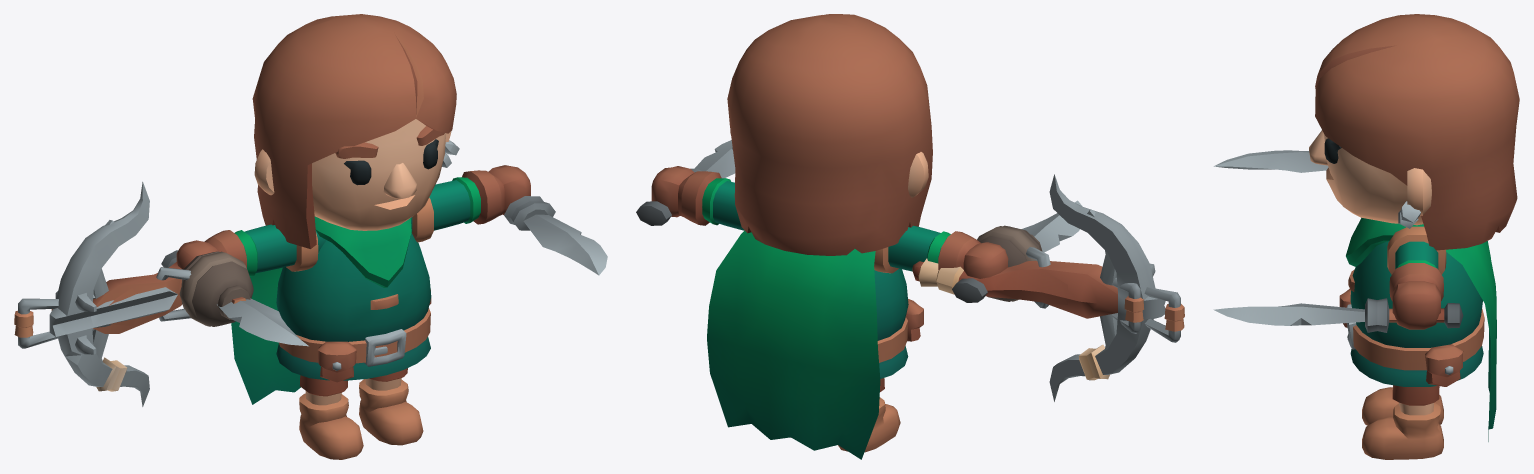
Rendered from rogue.glb.
3 views of the same model, side by side, from view 1: azimuth 30°, elevation 25°; view 2: azimuth 150°, elevation 25°; view 3: azimuth 270°, elevation 25° (orthographic).
Parts seen in each view (by area): view 1: Rogue_Head, Rogue_Body, 2H_Crossbow, Rogue_ArmLeft, Rogue_ArmRight, Rogue_LegRight, Rogue_Cape, Throwable, 1H_Crossbow, Rogue_LegLeft, Knife_Offhand, Knife; view 2: Rogue_Head, Rogue_Cape, 2H_Crossbow, 1H_Crossbow, Rogue_ArmRight, Rogue_ArmLeft, Rogue_Body, Knife, Knife_Offhand, Throwable, Rogue_LegRight; view 3: Rogue_Head, Rogue_Body, Rogue_ArmLeft, Rogue_LegLeft, Knife_Offhand, Rogue_Cape, Knife, Rogue_LegRight.
Part boxes in pixels (x1,y1,x2,y2): Rogue_Head: [252, 14, 459, 248]; Rogue_Body: [276, 216, 431, 382]; 2H_Crossbow: [14, 181, 182, 406]; Rogue_ArmLeft: [410, 165, 530, 242]; Rogue_ArmRight: [176, 224, 326, 276]; Rogue_LegRight: [299, 375, 363, 459]; Rogue_Cape: [231, 267, 300, 404]; Throwable: [179, 251, 253, 326]; 1H_Crossbow: [51, 220, 191, 363]; Rogue_LegLeft: [359, 368, 423, 445]; Knife_Offhand: [504, 196, 607, 275]; Knife: [161, 250, 308, 346]; Rogue_Head: [727, 14, 932, 255]; Rogue_Cape: [707, 230, 880, 459]; 2H_Crossbow: [1042, 174, 1184, 401]; 1H_Crossbow: [912, 209, 1143, 380]; Rogue_ArmRight: [874, 225, 1008, 278]; Rogue_ArmLeft: [651, 166, 744, 230]; Rogue_Body: [874, 268, 923, 378]; Knife: [952, 200, 1082, 302]; Knife_Offhand: [636, 140, 735, 225]; Throwable: [977, 225, 1042, 301]; Rogue_LegRight: [838, 378, 900, 452]; Rogue_Head: [1309, 14, 1519, 250]; Rogue_Body: [1339, 217, 1484, 386]; Rogue_ArmLeft: [1387, 226, 1446, 329]; Rogue_LegLeft: [1362, 385, 1443, 459]; Knife_Offhand: [1213, 298, 1463, 332]; Rogue_Cape: [1446, 241, 1496, 441]; Knife: [1213, 150, 1328, 172]; Rogue_LegRight: [1362, 385, 1443, 425].
Bounding box in the file's own units: 2.94 × 2.19 × 1.48.
1 material, 1 textured.
